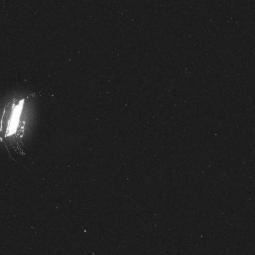lisa_pathfinder: (0, 78, 79, 180)
